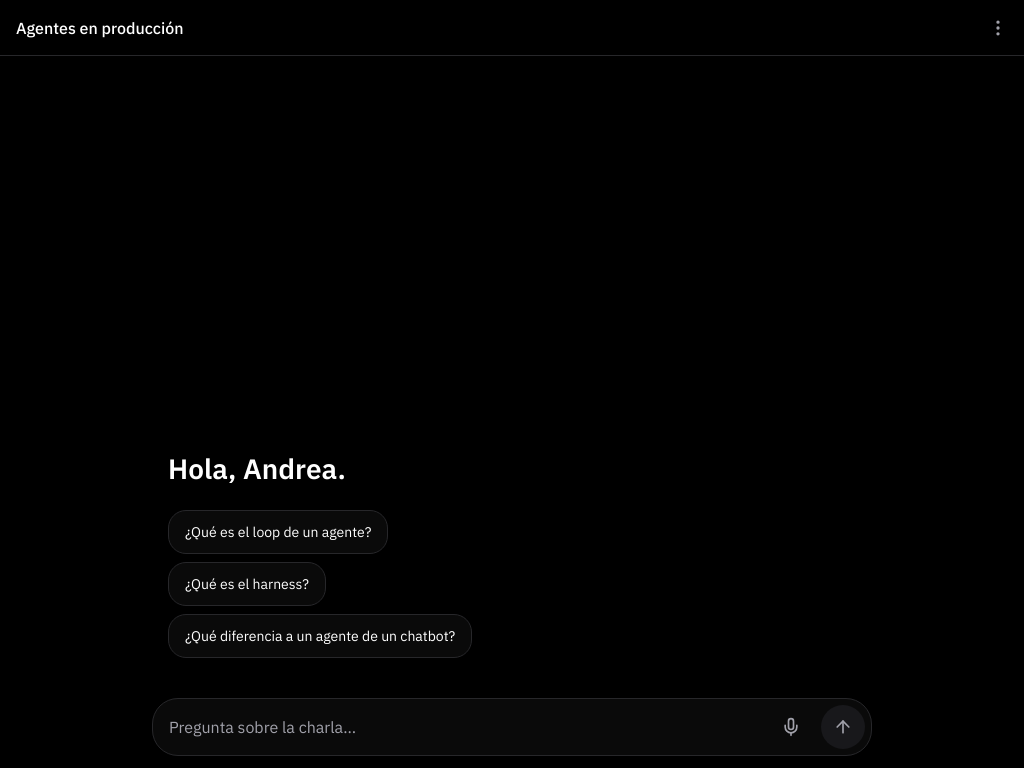
Chat: estados de error › stream interrumpido → texto parcial + aviso + Reintentar
Type "¿Qué son los evals?" into the text box with placeholder "Pregunta sobre la charla…" at (465, 727), box [169, 707, 761, 747]
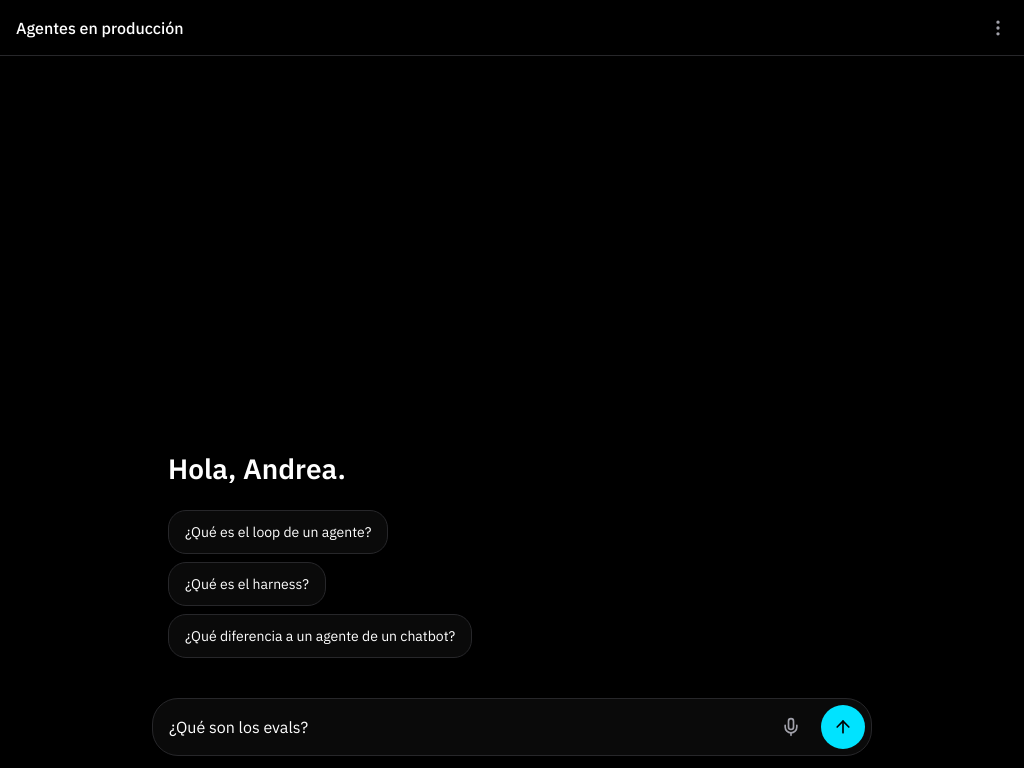
Click the button named "Enviar" at (843, 727), box [821, 705, 865, 749]
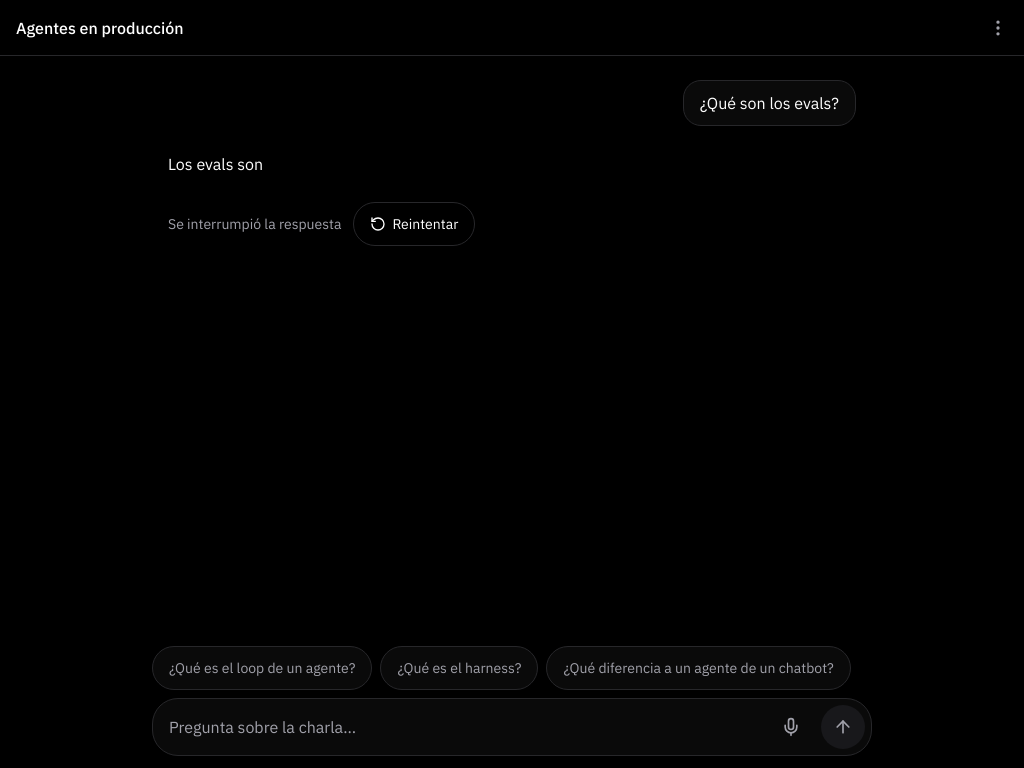
Now the text "Se interrumpió la respuesta" is shown, box [168, 214, 341, 234]
Now the text "Los evals son" is shown, box [168, 154, 263, 174]
Click the button "Reintentar" at (414, 224), box [353, 202, 475, 246]
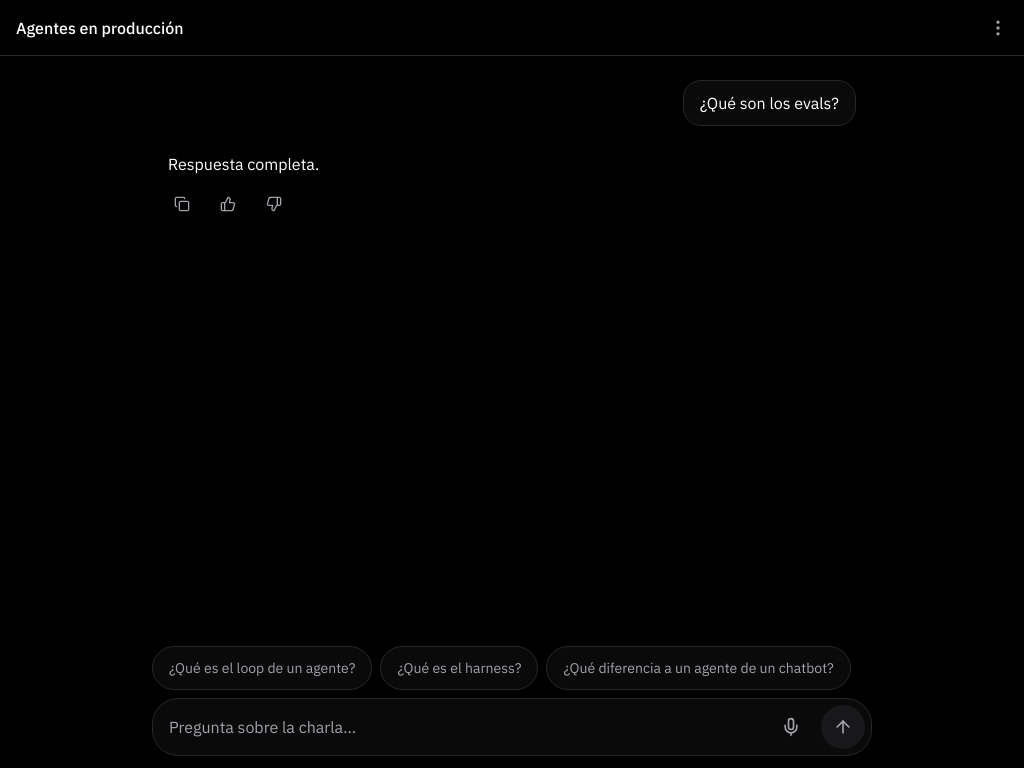
Now the text "Respuesta completa." is shown, box [168, 154, 319, 174]
Now the text "Se interrumpió la respuesta" is gone
Now the text "Los evals son" is gone
